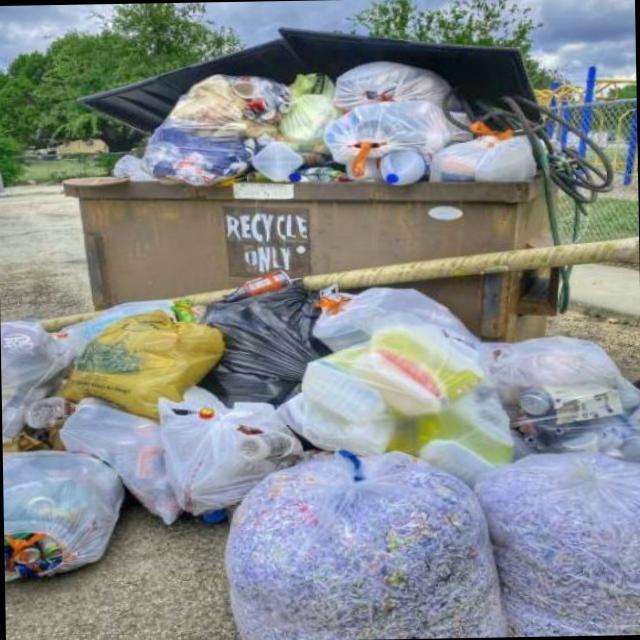garbage: (80, 264, 624, 464), (115, 60, 541, 186), (225, 456, 494, 640), (485, 453, 640, 637), (2, 442, 122, 592), (0, 316, 82, 451), (620, 361, 640, 452)
